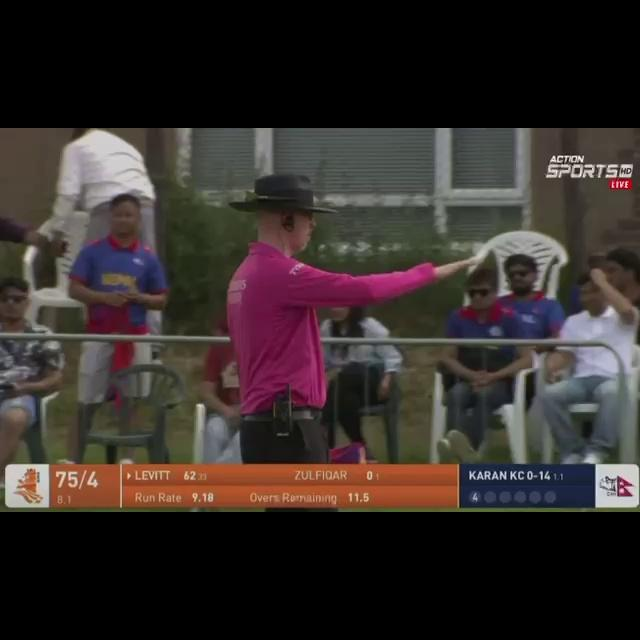umpire: (190, 136, 495, 426)
